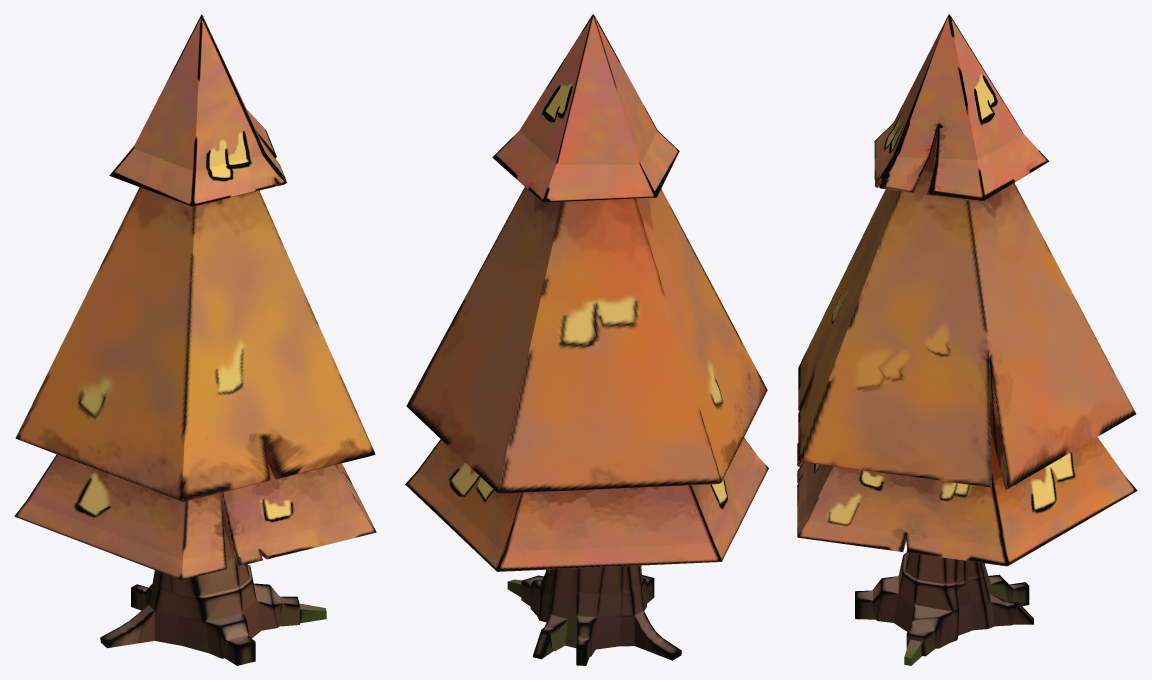
Rendered from 40_Tree.fbx.
The picture shows the model from 3 angles, left to right: view 1: azimuth 30°, elevation 25°; view 2: azimuth 150°, elevation 25°; view 3: azimuth 270°, elevation 25°; orthographic projection. The views are drawn at different scales.
Visible parts, largest first — view 1: Tree_01; view 2: Tree_01; view 3: Tree_01.
Boxes of the visible parts, bbox=[...] form: Tree_01: bbox=[14, 14, 376, 665]; Tree_01: bbox=[405, 14, 768, 665]; Tree_01: bbox=[797, 14, 1137, 665].
Size of the model in its own units: 519 by 964 by 493.
